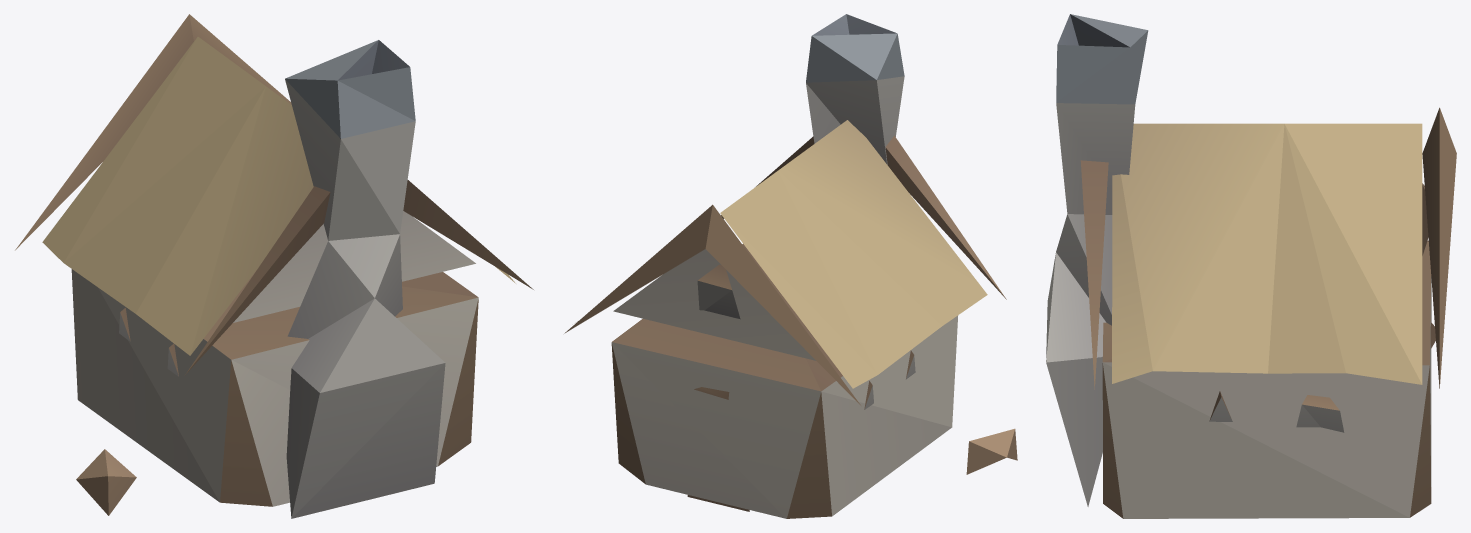
The model's file is house_settlers.v2.lite.glb.
3 views of the same model, side by side, from view 1: azimuth 30°, elevation 25°; view 2: azimuth 150°, elevation 25°; view 3: azimuth 270°, elevation 25° (orthographic). The views are drawn at different scales.
Visible parts, largest first — view 1: house_settlers; view 2: house_settlers; view 3: house_settlers.
Part boxes in pixels (bbox=[...]): house_settlers: bbox=[15, 14, 533, 518]; house_settlers: bbox=[564, 14, 1017, 518]; house_settlers: bbox=[1046, 14, 1456, 518].
Size of the model in its own units: 2.21 by 2.28 by 1.92.
